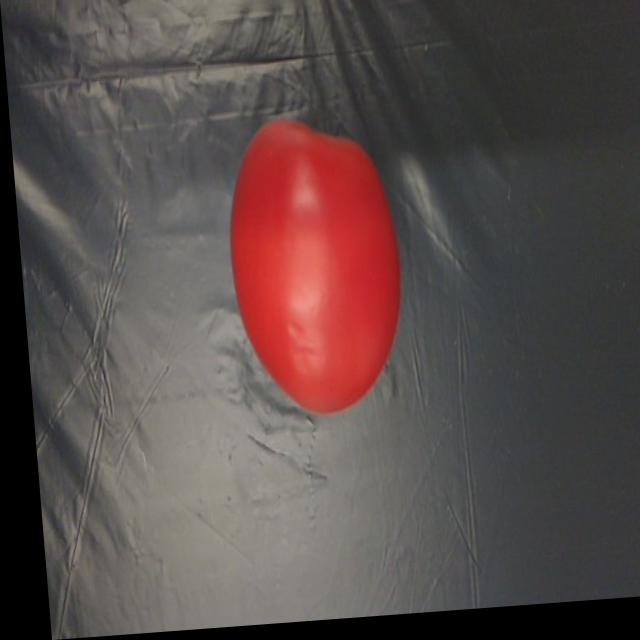kirmizi: (214, 110, 419, 426)
